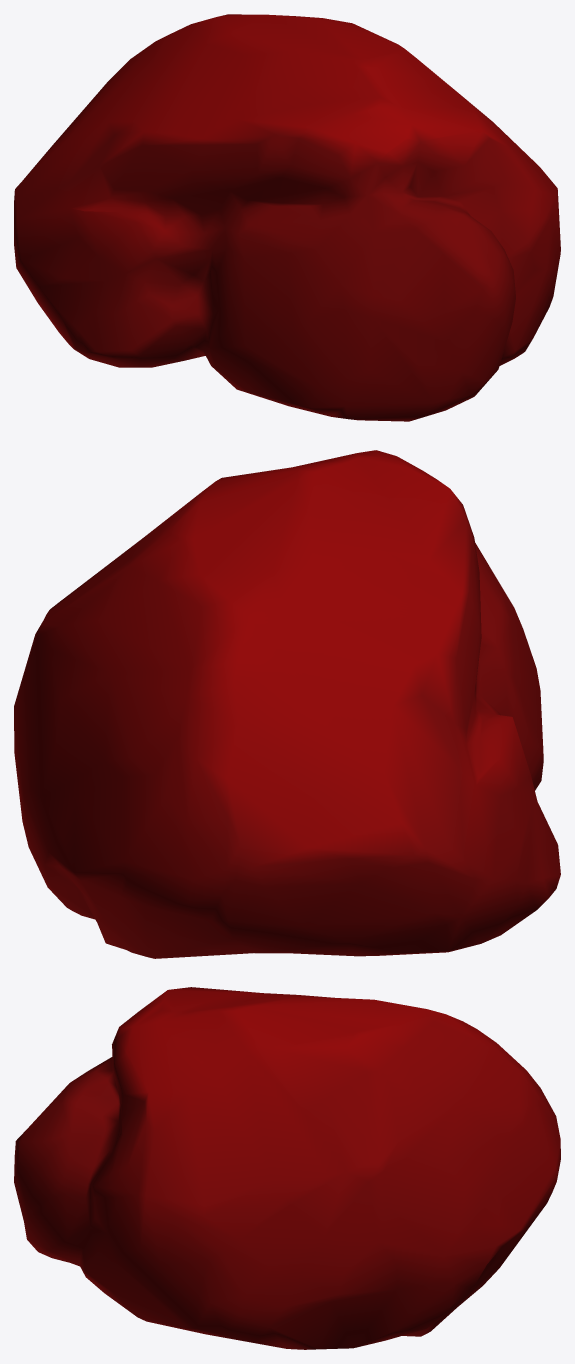
The model's file is geology-rocks-rocklarge_v1.fbx.
The picture shows the model from 3 angles, top to bottom: view 1: azimuth 30°, elevation 25°; view 2: azimuth 150°, elevation 25°; view 3: azimuth 270°, elevation 25°; orthographic projection. The views are drawn at different scales.
Parts seen in each view (by area): view 1: RockLarge_v1; view 2: RockLarge_v1; view 3: RockLarge_v1.
Part boxes in pixels (x1,y1,x2,y2): RockLarge_v1: [14, 14, 560, 421]; RockLarge_v1: [14, 450, 560, 958]; RockLarge_v1: [14, 987, 560, 1349].
Size of the model in its own units: 10.27 by 7.39 by 12.14.
